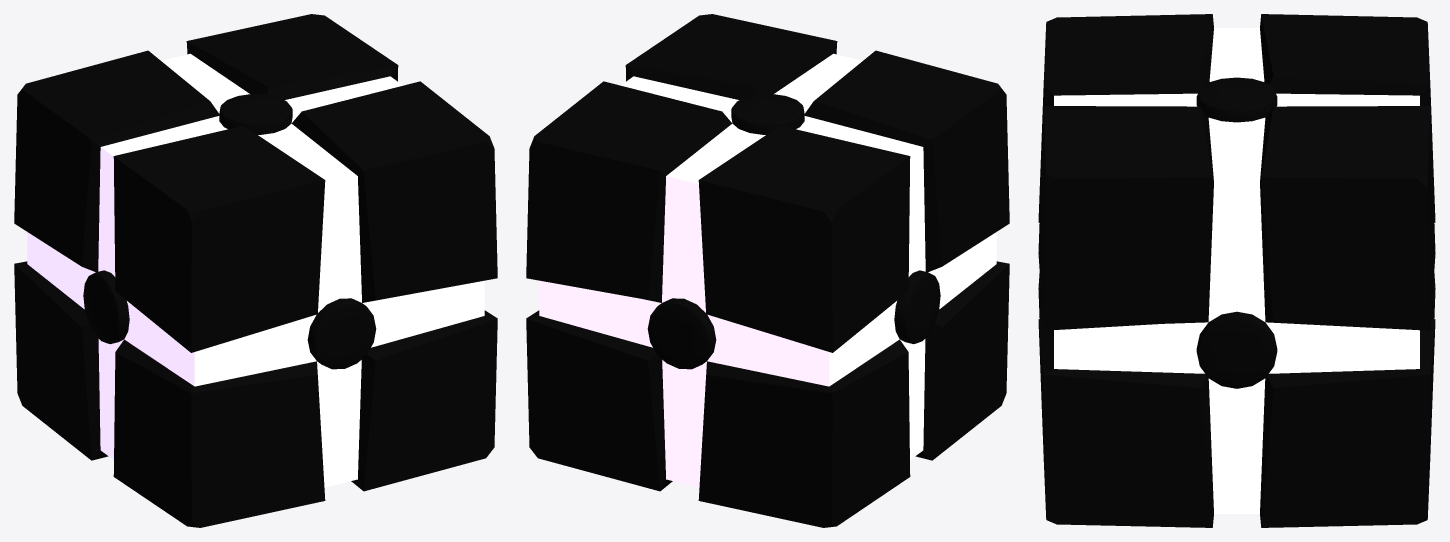
The model's file is kub.fbx.
The picture shows the model from 3 angles, left to right: view 1: azimuth 30°, elevation 25°; view 2: azimuth 150°, elevation 25°; view 3: azimuth 270°, elevation 25°; orthographic projection. The views are drawn at different scales.
Parts seen in each view (by area): view 1: Куб.002; view 2: Куб.002; view 3: Куб.002.
Boxes of the visible parts, x1,y1,x2,y2 form: Куб.002: (14,14,497,527); Куб.002: (526,14,1009,527); Куб.002: (1038,14,1435,527).
Bounding box in the file's own units: 39.76 × 39.76 × 39.76.
